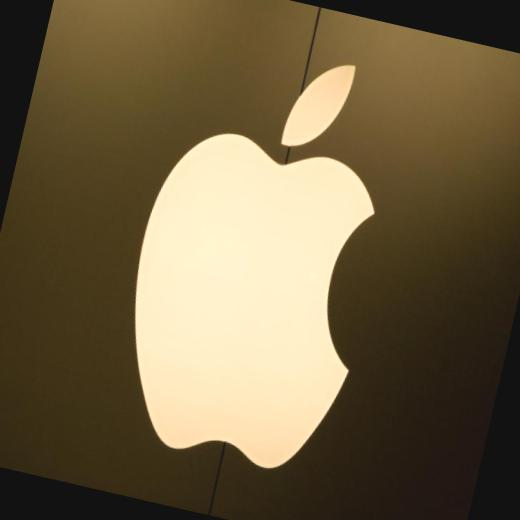Apple: (98, 24, 414, 482)
